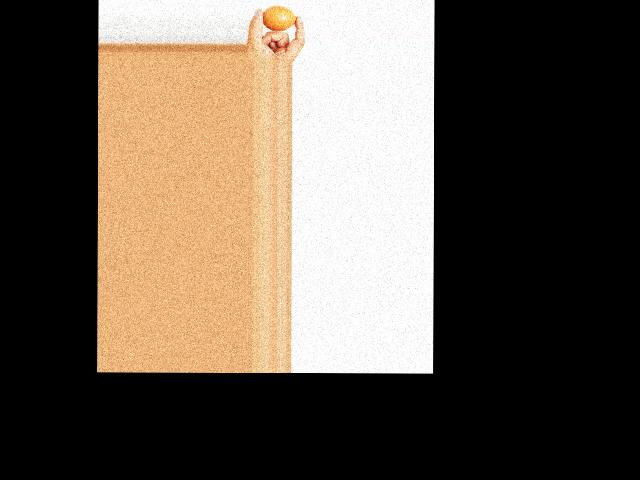egg: (262, 4, 296, 31)
